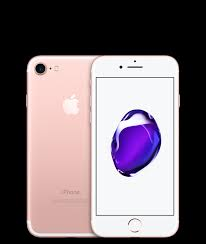iphone: (88, 54, 181, 240)
iphone7: (89, 53, 182, 239)
